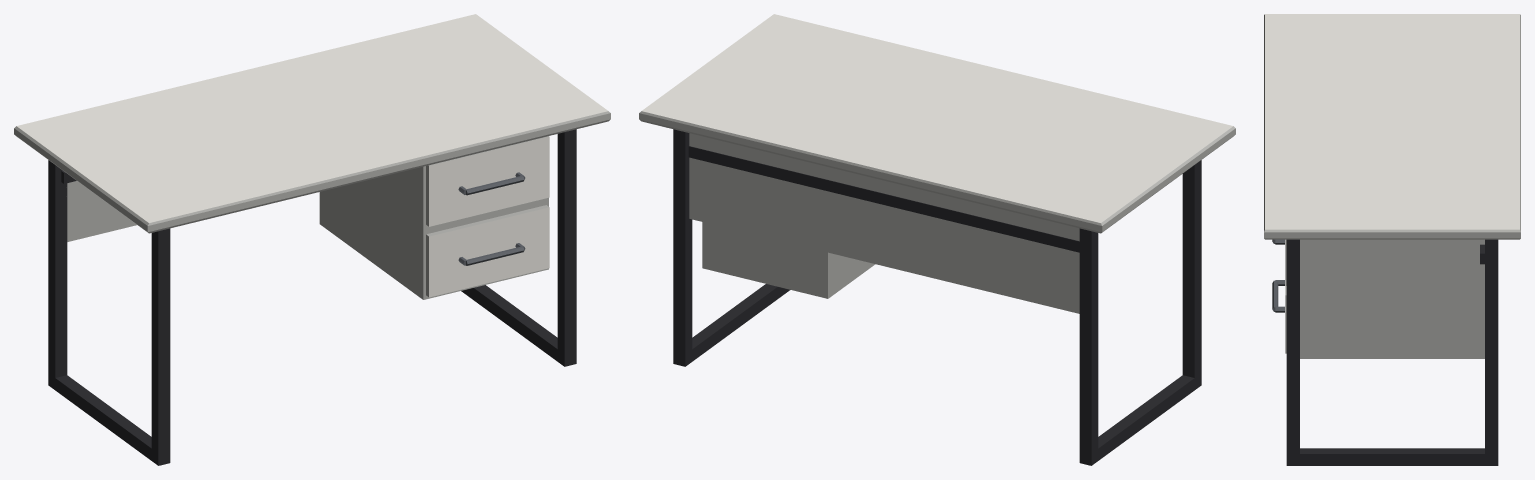
File: FN_Desk_Office.obj
3 views of the same model, side by side, from view 1: azimuth 30°, elevation 25°; view 2: azimuth 150°, elevation 25°; view 3: azimuth 270°, elevation 25° (orthographic). The views are drawn at different scales.
Visible parts, largest first — view 1: FN_Desk_Office; view 2: FN_Desk_Office; view 3: FN_Desk_Office.
Part boxes in pixels (x1,y1,x2,y2): FN_Desk_Office: (14, 14, 610, 465); FN_Desk_Office: (639, 14, 1235, 465); FN_Desk_Office: (1264, 14, 1520, 465).
Bounding box in the file's own units: 1.4 × 0.74 × 0.7.
Materials: 1 (1 with a texture image).
